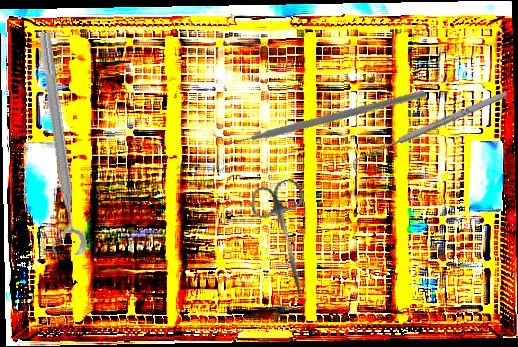Chopper: (211, 5, 428, 223)
Fixation Ring: (19, 31, 89, 259)
Hook Surgical: (348, 88, 512, 173)
Iris Scissors: (247, 176, 330, 306)
